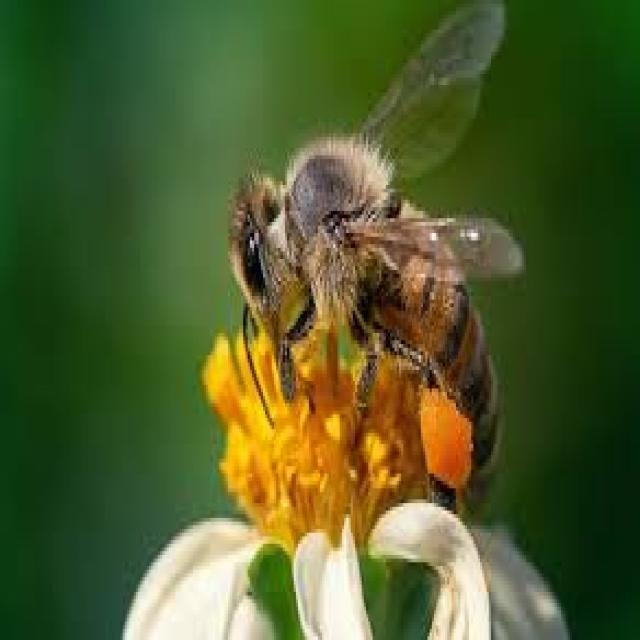Bees: (228, 1, 526, 524)
